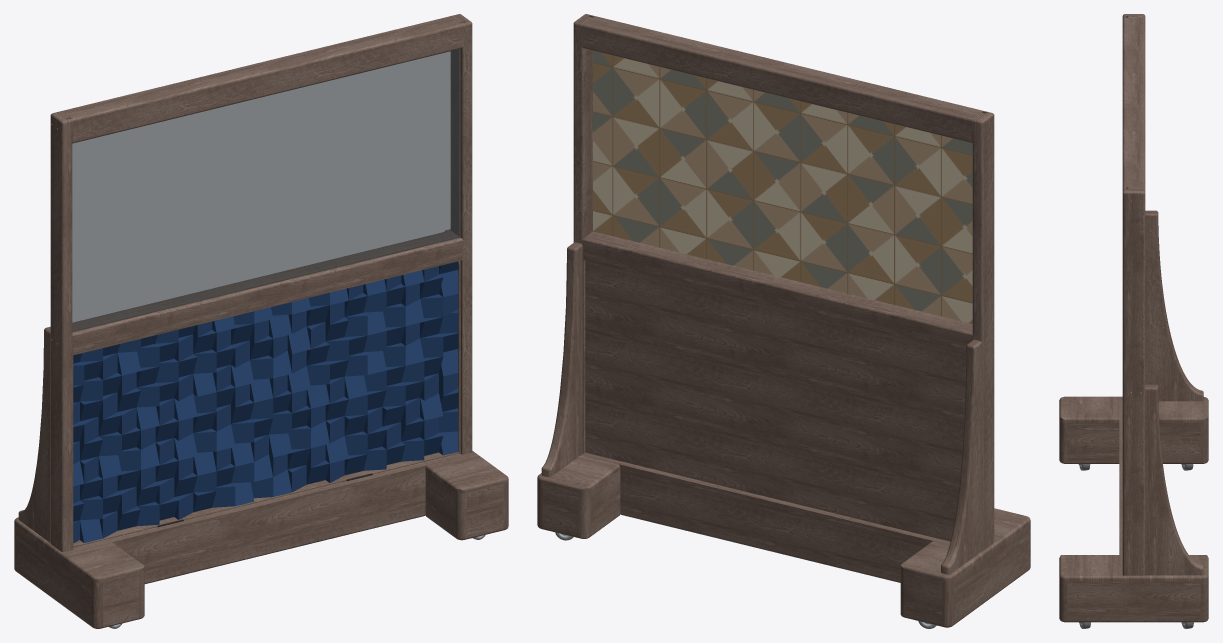
The model's file is v10-linen-marquetry-smoked-oak-one.glb.
The picture shows the model from 3 angles, left to right: view 1: azimuth 30°, elevation 25°; view 2: azimuth 150°, elevation 25°; view 3: azimuth 270°, elevation 25°; orthographic projection. The views are drawn at different scales.
Visible parts, largest first — view 1: Wood, Linen Marquetry reverse, Navy Everwood relief; view 2: Wood, Linen Marquetry print; view 3: Wood, Nonmarking rubber.
Part boxes in pixels (x1=…): Wood: x1=14, y1=14, x2=508, y2=628; Linen Marquetry reverse: x1=72, y1=49, x2=460, y2=331; Navy Everwood relief: x1=73, y1=261, x2=458, y2=543; Wood: x1=537, y1=14, x2=1030, y2=627; Linen Marquetry print: x1=593, y1=50, x2=972, y2=323; Wood: x1=1059, y1=14, x2=1208, y2=622; Nonmarking rubber: x1=1079, y1=464, x2=1193, y2=628.
Bounding box in the file's own units: 1.68 × 1.91 × 0.5842.
Materials: 10 (2 with a texture image).
